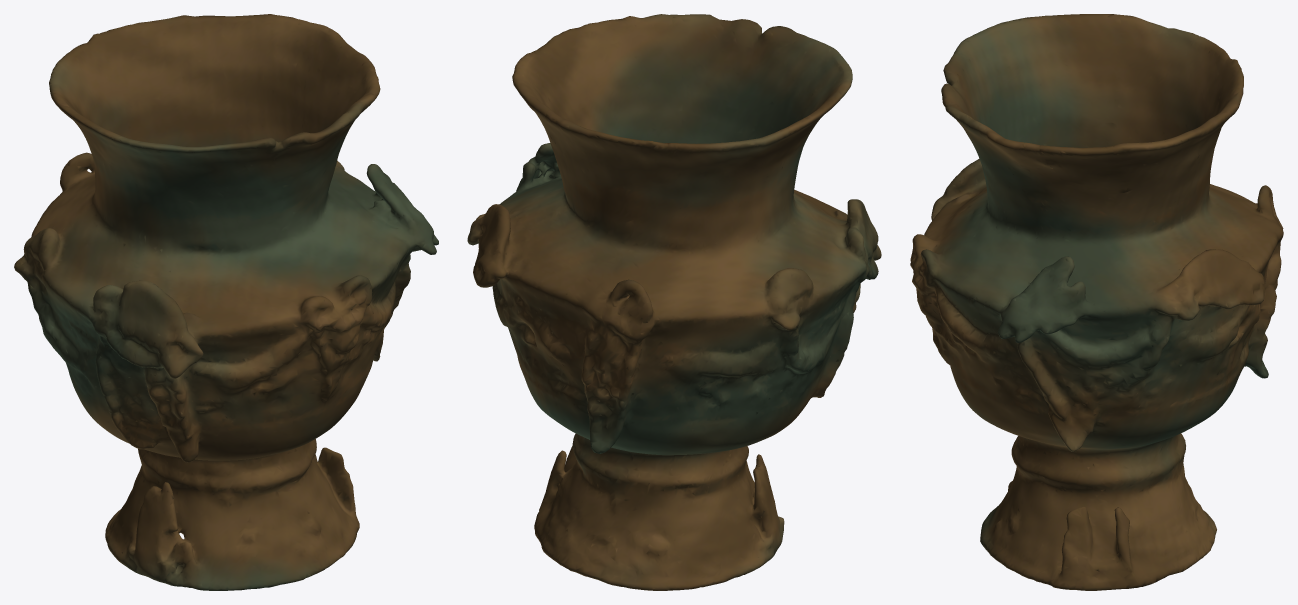
Rendered from longhuzun.glb.
3 views of the same model, side by side, from view 1: azimuth 30°, elevation 25°; view 2: azimuth 150°, elevation 25°; view 3: azimuth 270°, elevation 25° (orthographic). The views are drawn at different scales.
Visible parts, largest first — view 1: model; view 2: model; view 3: model.
Boxes of the visible parts, x1=… form: model: x1=14, y1=14, x2=438, y2=590; model: x1=467, y1=14, x2=881, y2=590; model: x1=910, y1=14, x2=1283, y2=590.
Bounding box in the file's own units: 0.7706 × 1 × 0.752.
